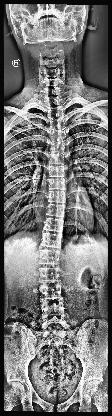Vertebrae: (34, 268, 68, 282), (36, 251, 68, 265), (36, 235, 70, 248), (35, 286, 71, 298), (38, 219, 70, 232), (38, 302, 70, 314), (41, 204, 73, 216), (47, 140, 70, 152), (43, 166, 70, 176), (43, 154, 70, 164), (46, 192, 72, 202), (45, 178, 71, 188), (43, 99, 69, 108), (47, 129, 69, 139), (48, 119, 70, 128), (47, 110, 69, 118)
